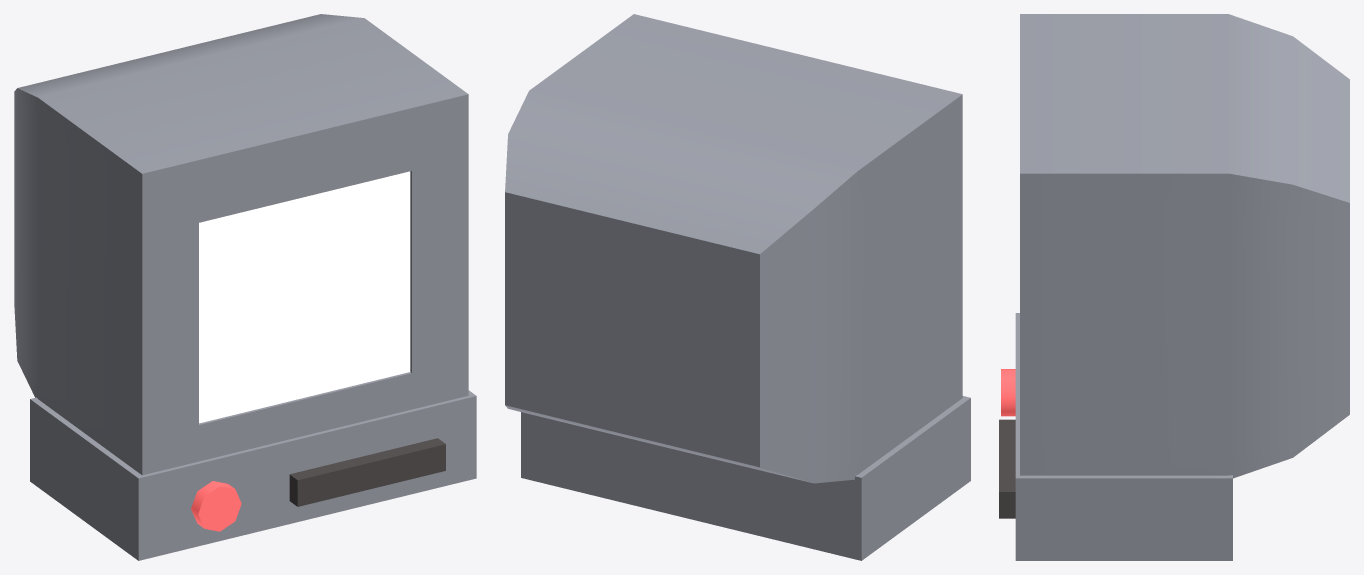
File: comp01.fbx
3 views of the same model, side by side, from view 1: azimuth 30°, elevation 25°; view 2: azimuth 150°, elevation 25°; view 3: azimuth 270°, elevation 25° (orthographic).
Visible parts, largest first — view 1: top, bottom, button1, button; view 2: top, bottom; view 3: top, bottom, button1, button.
Part boxes in pixels (<box>): top: <box>14,14,468,475</box>; bottom: <box>30,390,476,560</box>; button1: <box>289,438,445,506</box>; button: <box>191,481,241,531</box>; top: <box>505,14,962,483</box>; bottom: <box>521,396,970,560</box>; top: <box>1020,14,1349,478</box>; bottom: <box>1015,313,1232,560</box>; button1: <box>999,419,1015,518</box>; button: <box>1001,369,1015,416</box>.
Bounding box in the file's own units: 8.1 × 8.79 × 7.27.
Materials: 1 (1 with a texture image).
